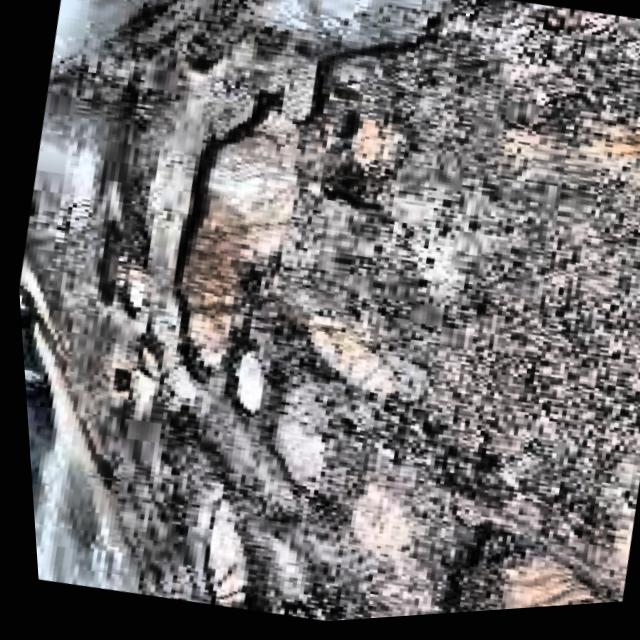Cracks: (171, 98, 294, 375), (433, 535, 591, 619)
